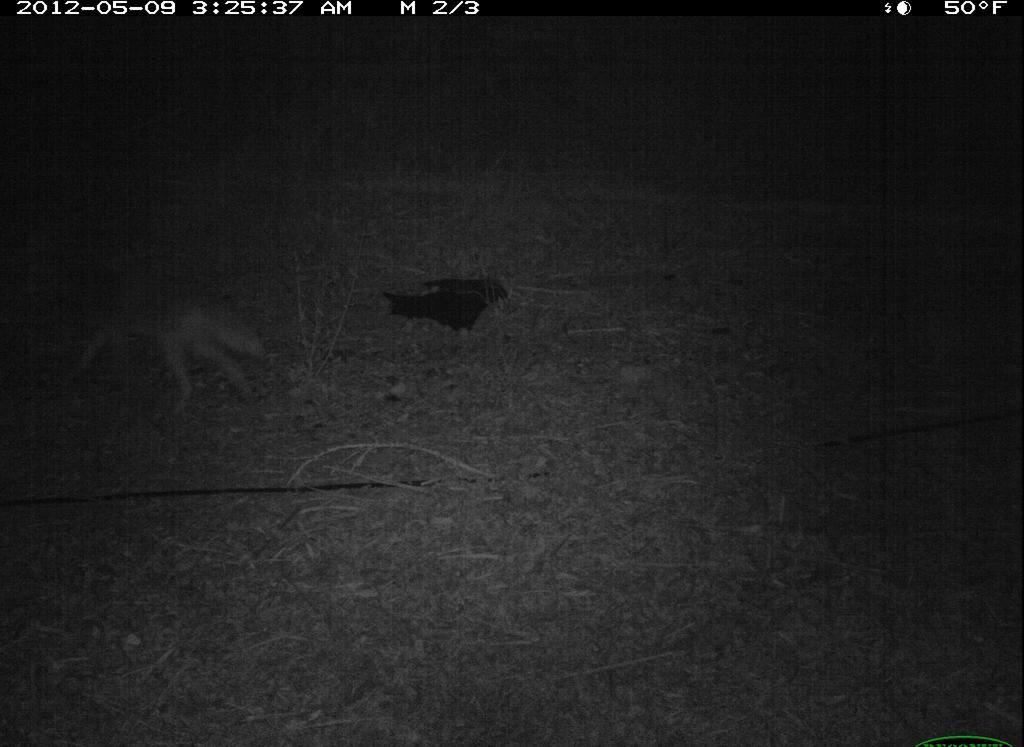coyote: (44, 286, 280, 411)
